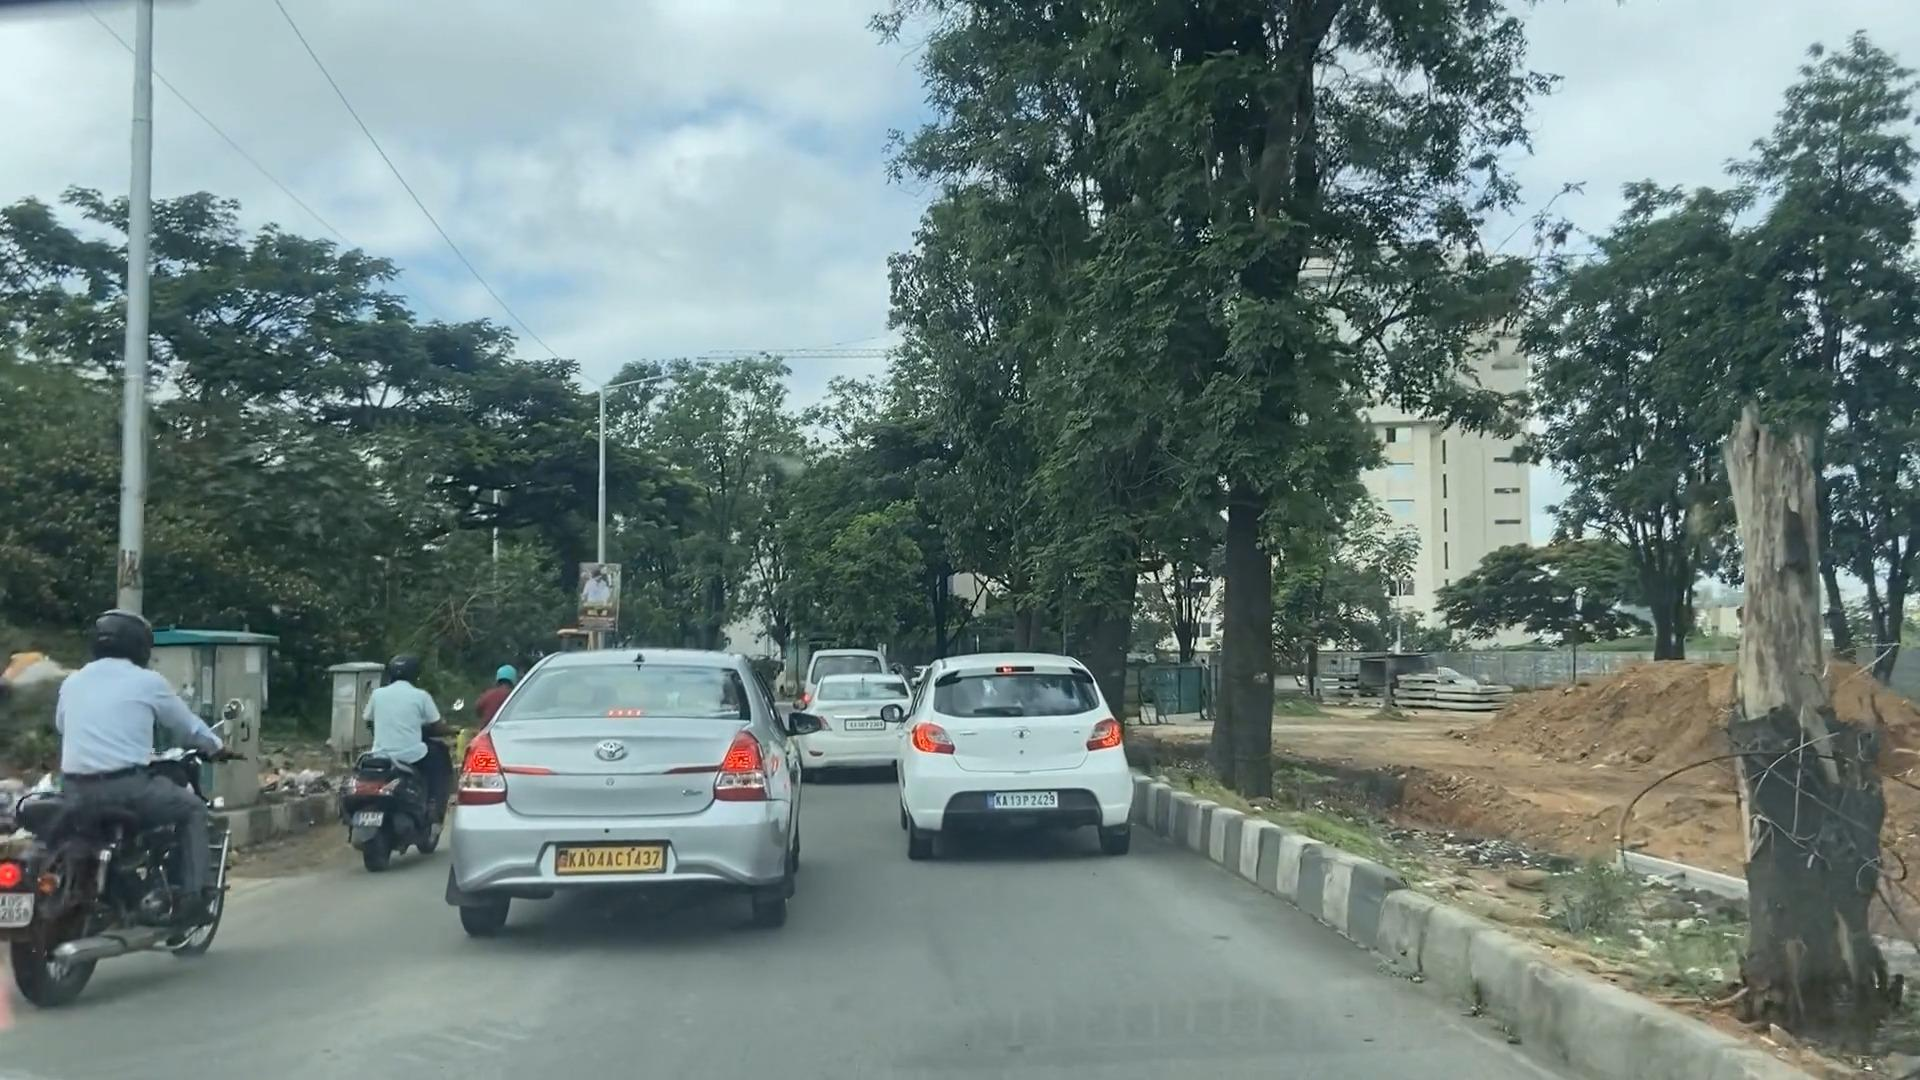LMV: (51, 618, 216, 960), (483, 692, 781, 880), (914, 688, 1112, 848), (348, 655, 435, 849)
